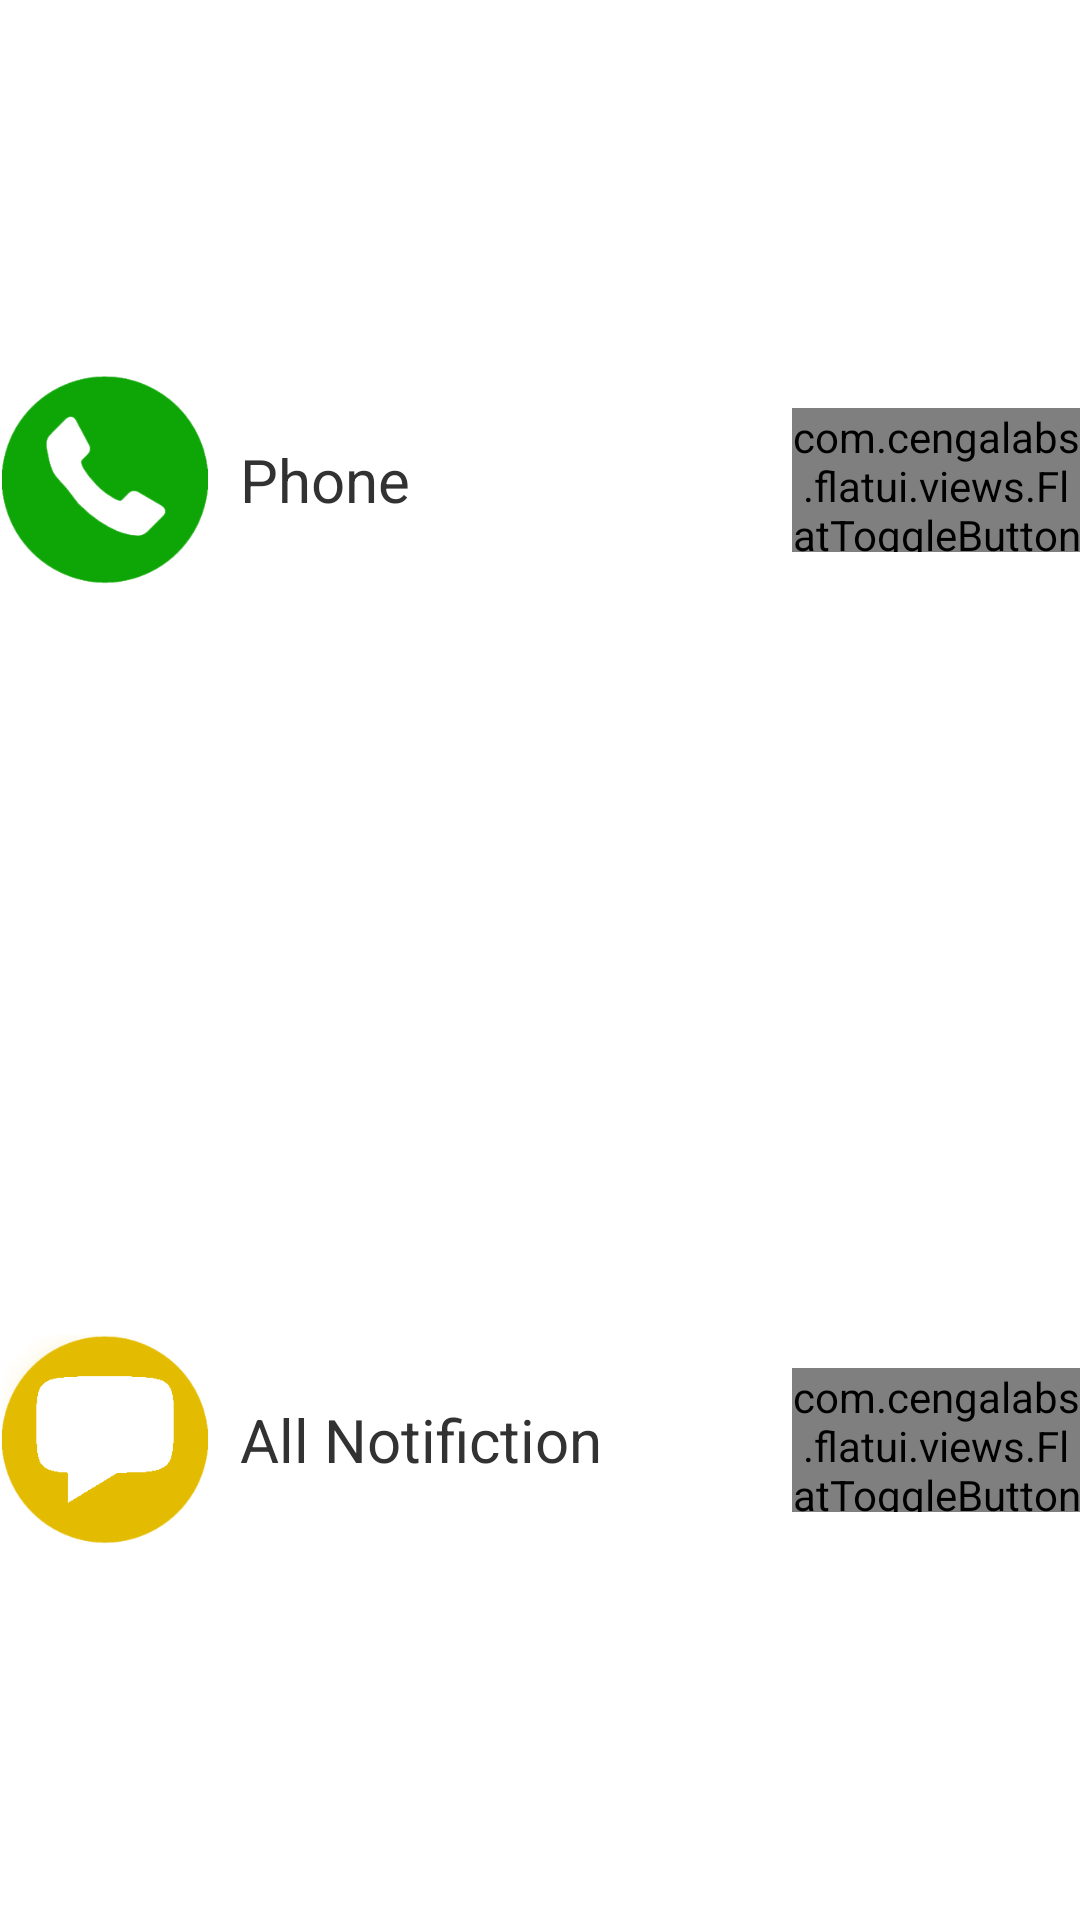

Where icons sit on this 1080 x 1920 app screen, as [x1,y1,x2,y2]:
message: [2,1336,208,1543]
